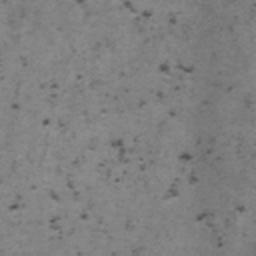Oxide scale of temperature system: (6, 0, 252, 248), (10, 52, 84, 127), (74, 0, 86, 5)
